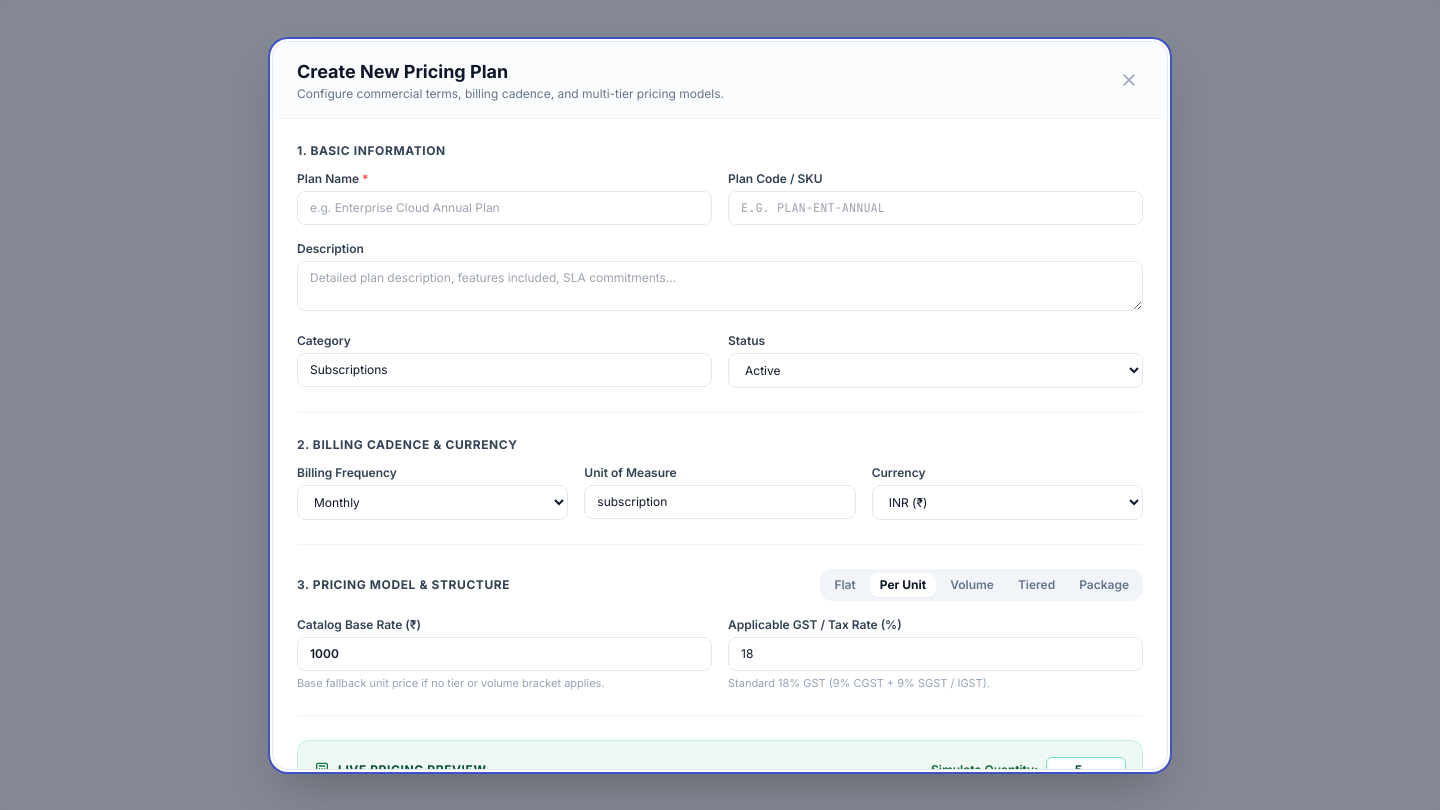
<PlanModal /> dialog, limits and overflow › rejects a base price above the maximum and does not save
Type "Valid Plan Name" into the field labelled "Plan Name *" at (504, 208), box x1=297 y1=190 x2=712 y2=224
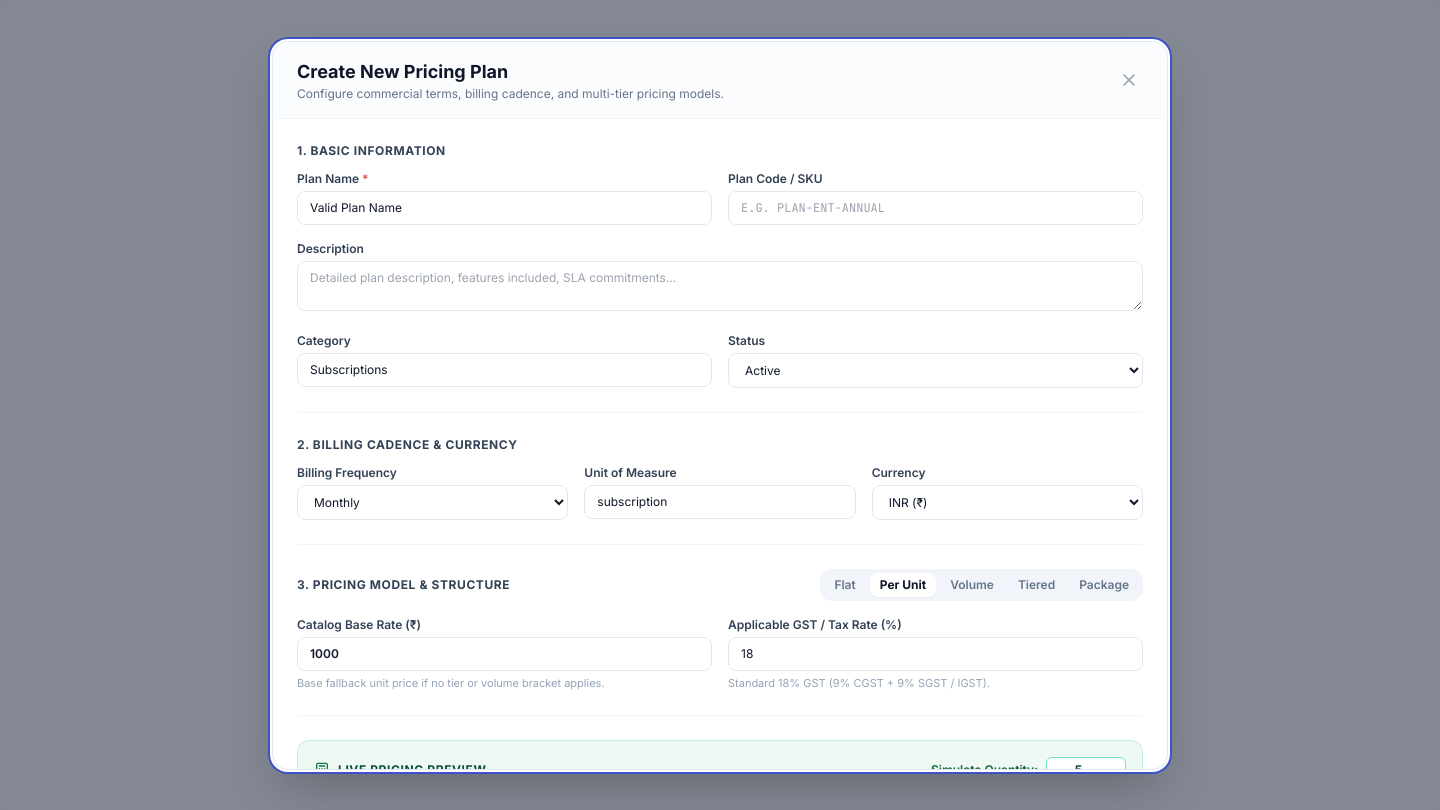
Replace the text in the number field labelled "Catalog Base Rate (₹)" with "1000000000000" at (504, 654), box x1=297 y1=636 x2=712 y2=670
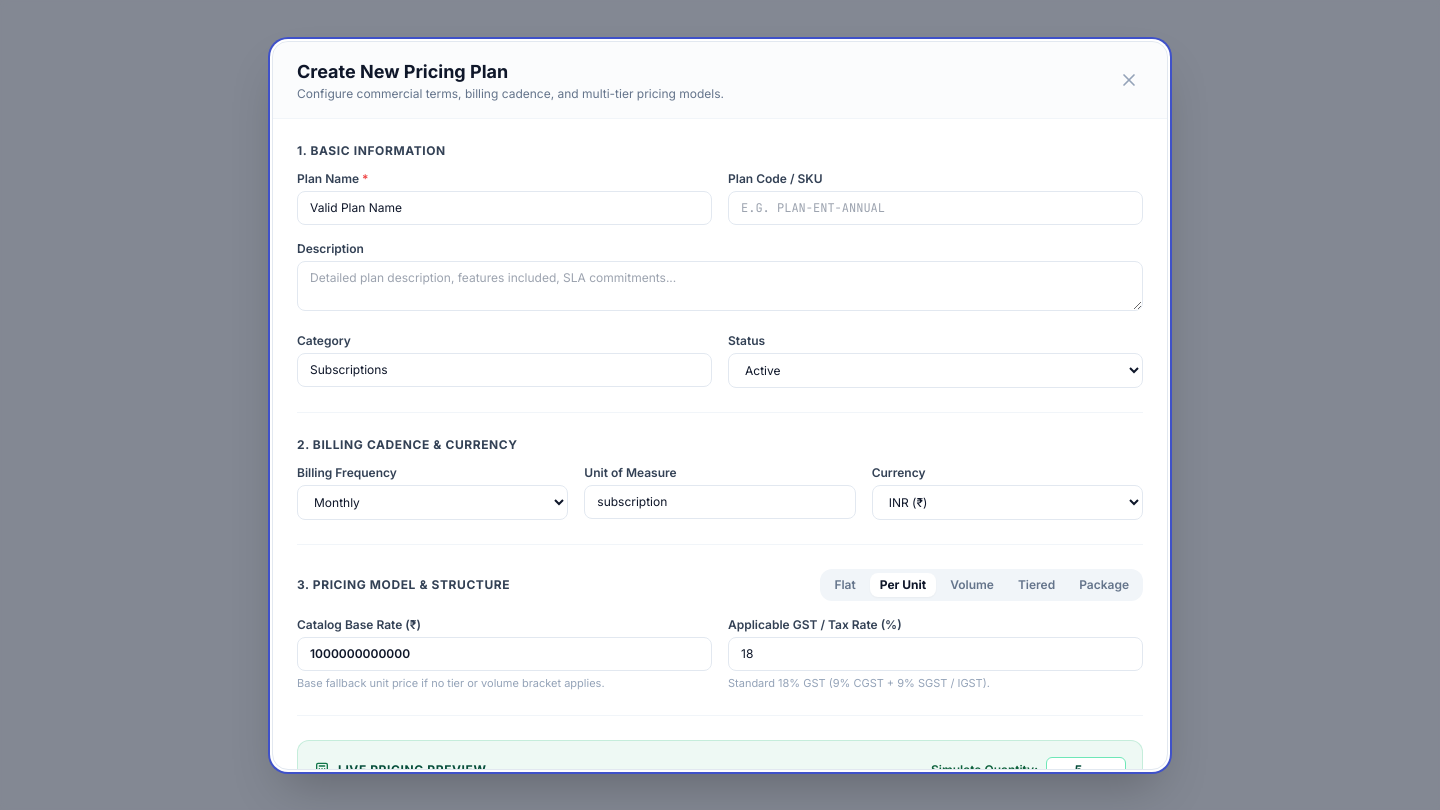
Submit the form, box x1=273 y1=118 x2=1167 y2=768
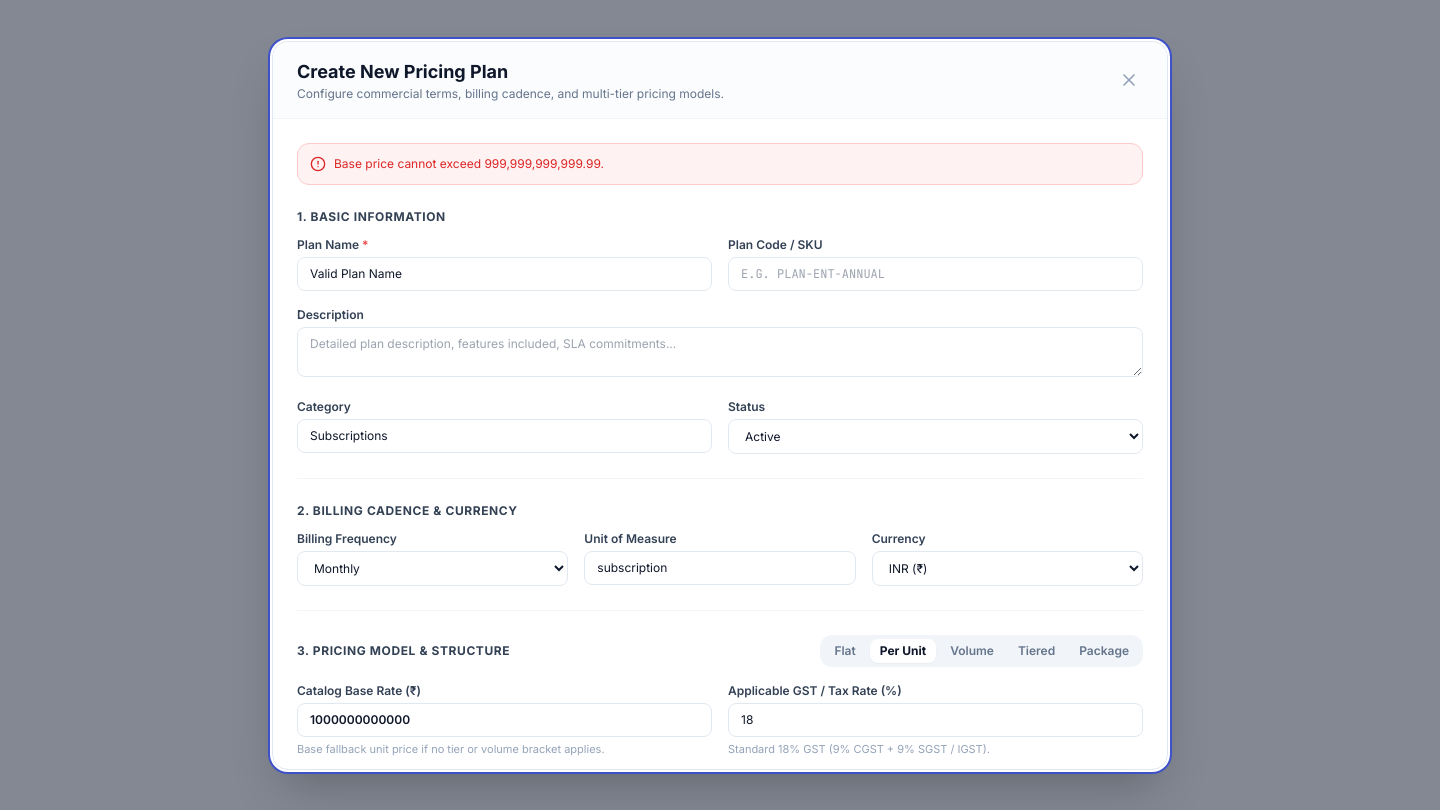
Result: the text "Base price cannot exceed 999,999,999,999.99." is shown at x1=334 y1=156 x2=604 y2=172
